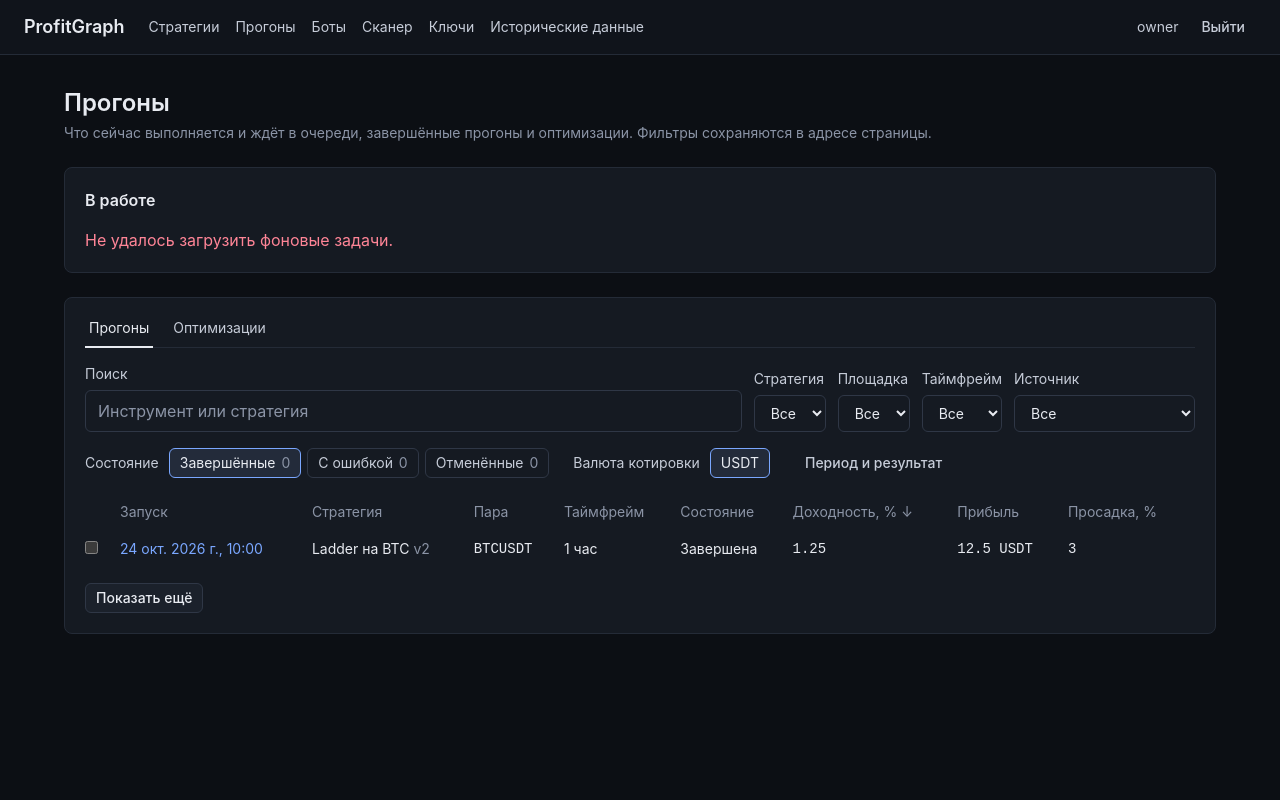
it: run lists › ranks completed runs in a quote currency and loads more
Check: the text "Ladder на BTC" is shown, box [312,540,409,556]
Click the button "Показать ещё" at (144, 598), box [85,583,203,613]
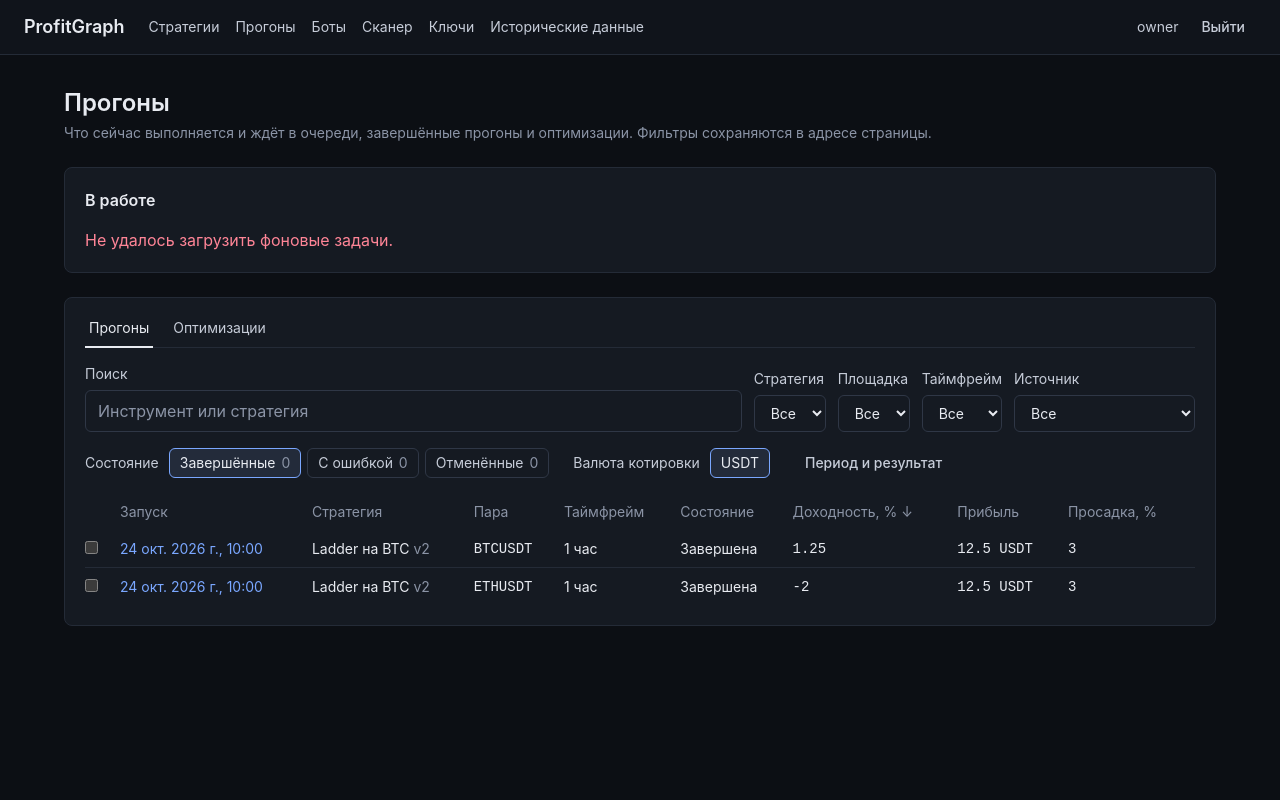
Check: the text "ETHUSDT" is shown, box [474,568,564,605]
Check: the button "Показать ещё" is gone
